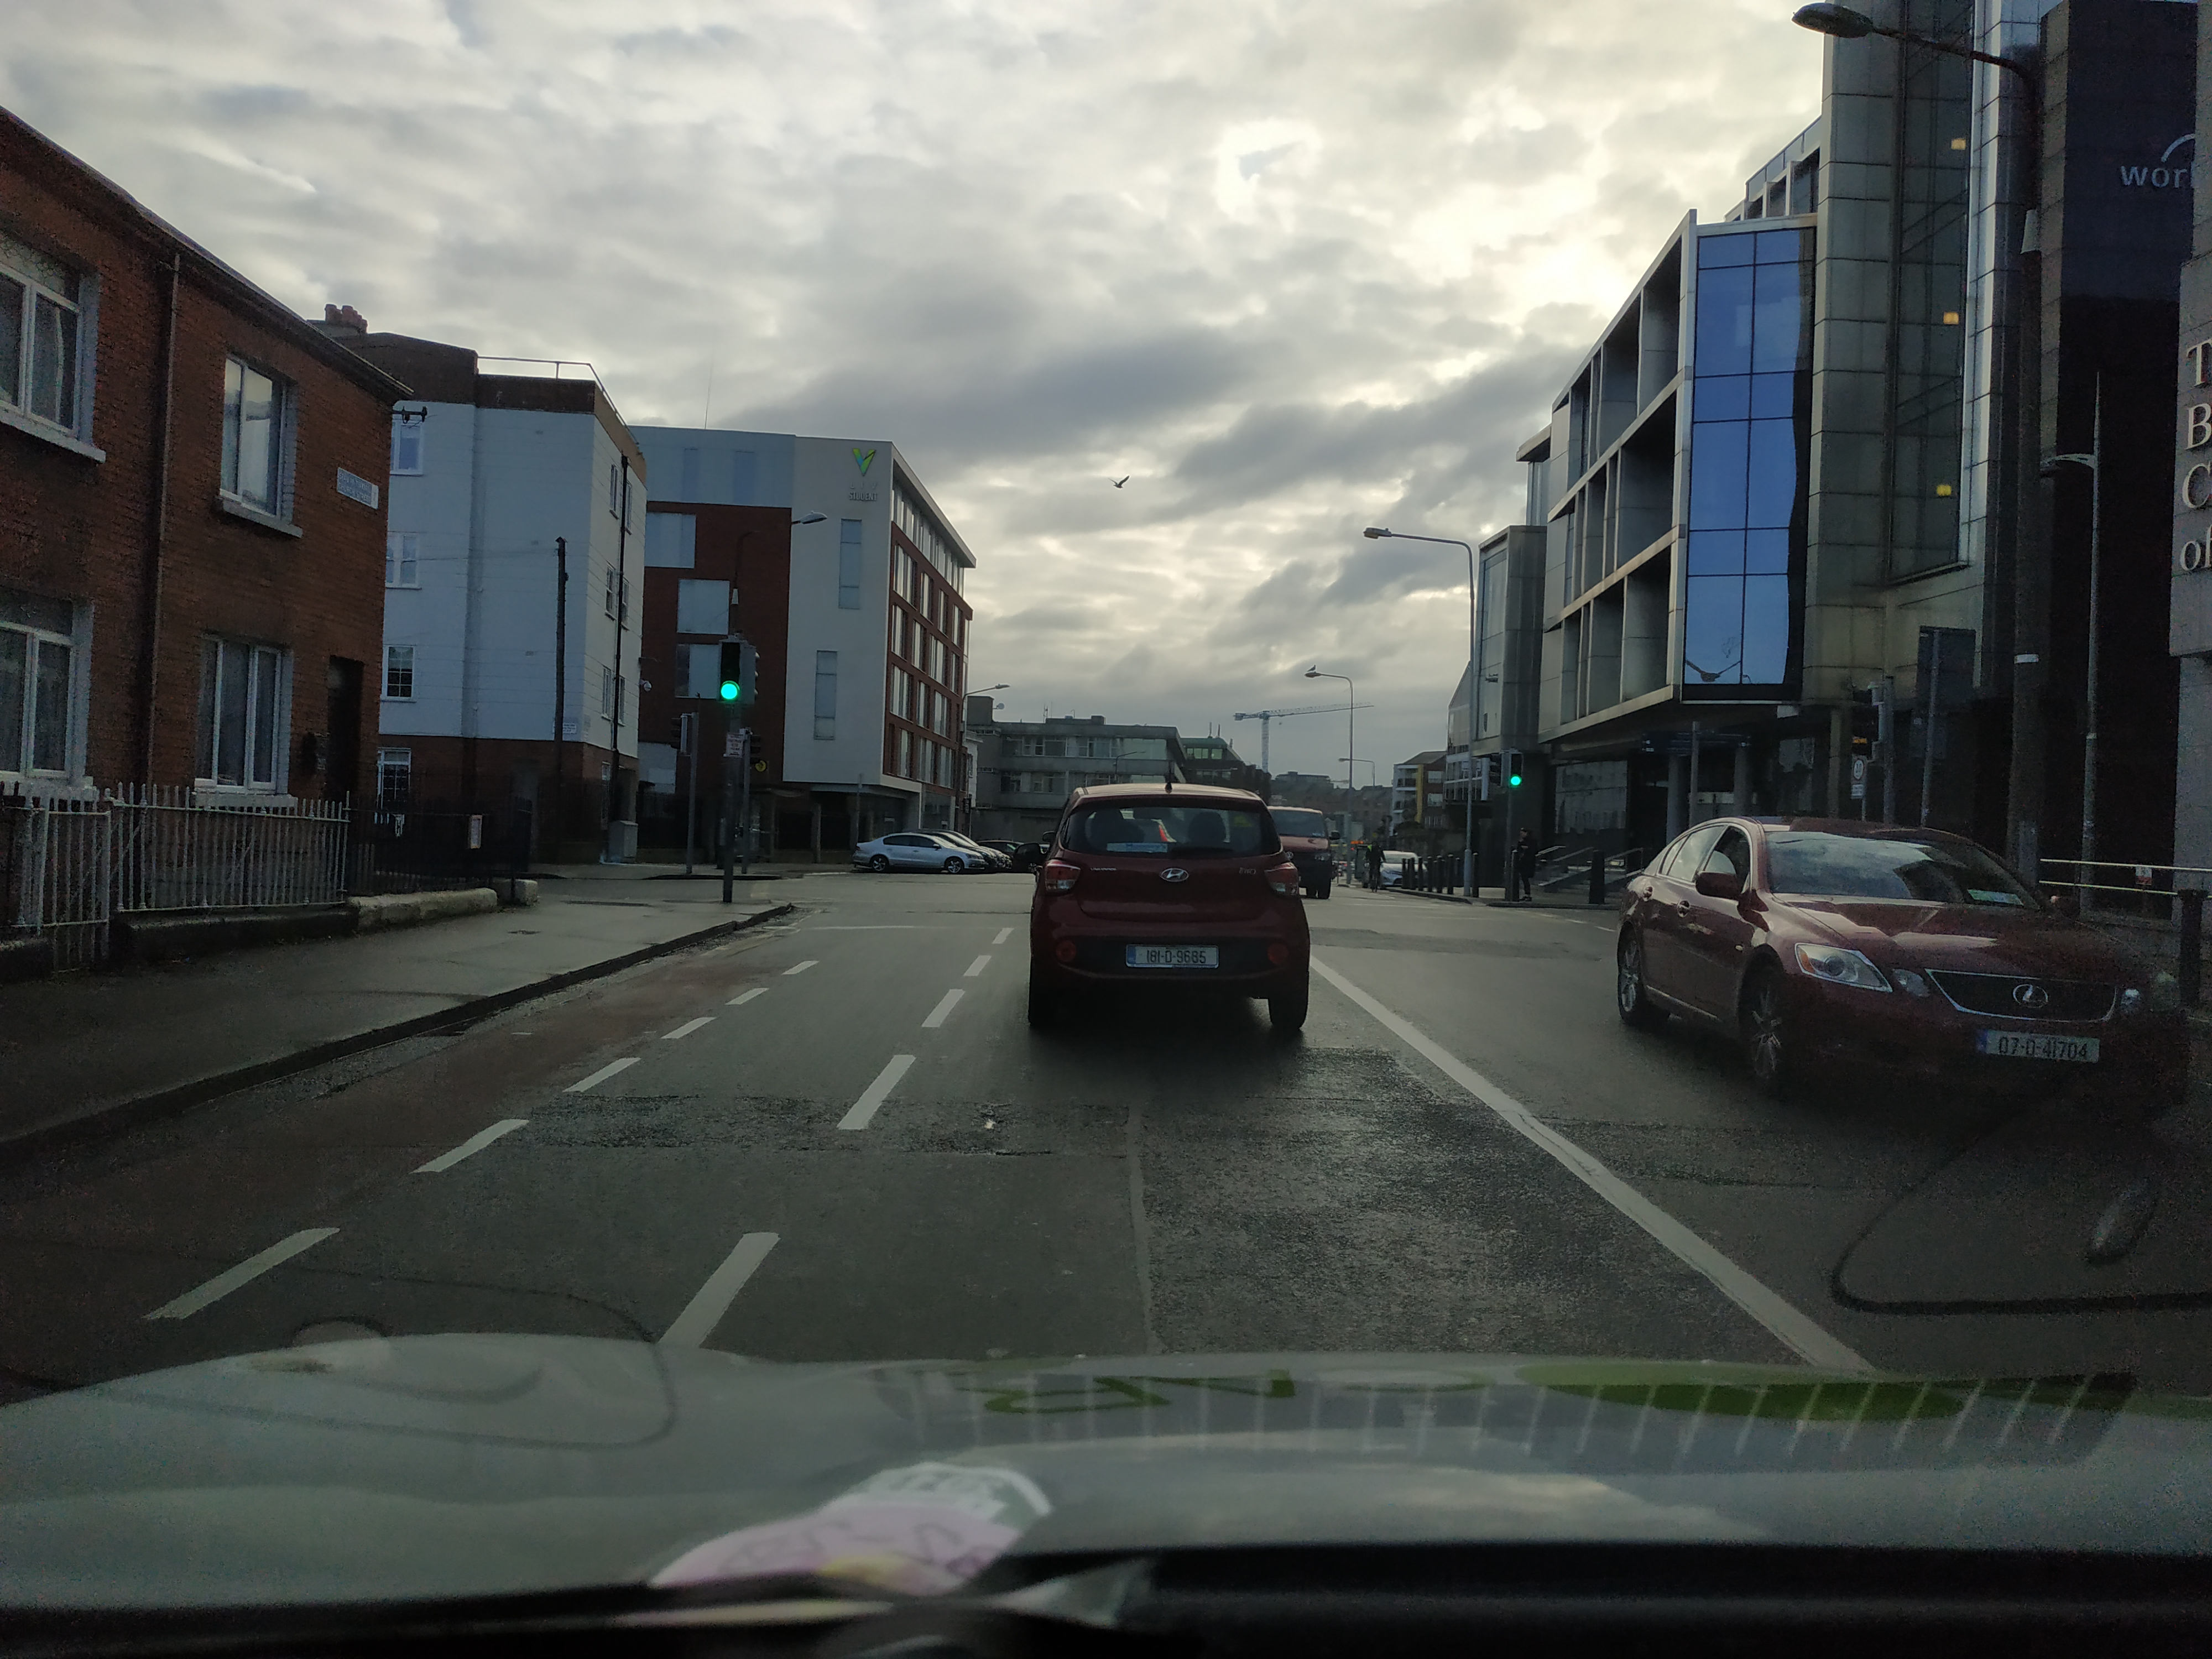Bicycle: (1366, 859, 1387, 895)
Car: (1617, 813, 2186, 1136), (1026, 785, 1310, 1042), (851, 832, 987, 873)
Person: (1516, 828, 1537, 902), (1365, 840, 1387, 883)
